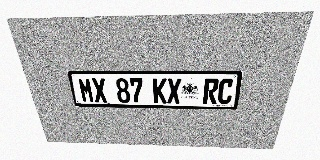7: (129, 78, 144, 103)
8: (115, 78, 131, 103)
C: (217, 78, 235, 104)
K: (153, 78, 167, 103)
M: (77, 78, 95, 102)
R: (203, 78, 219, 104)
X: (91, 78, 108, 102), (167, 78, 181, 104)
